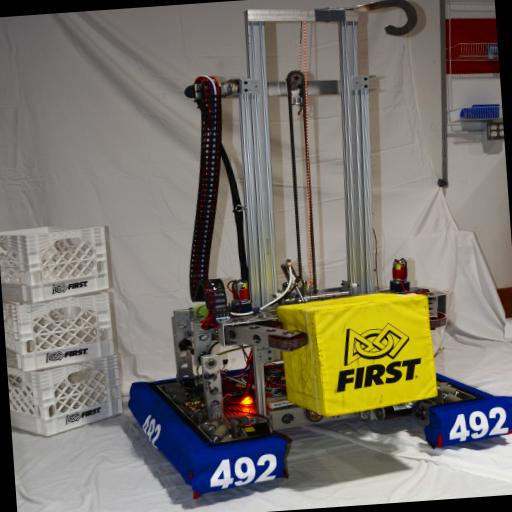robot: (98, 0, 512, 500)
